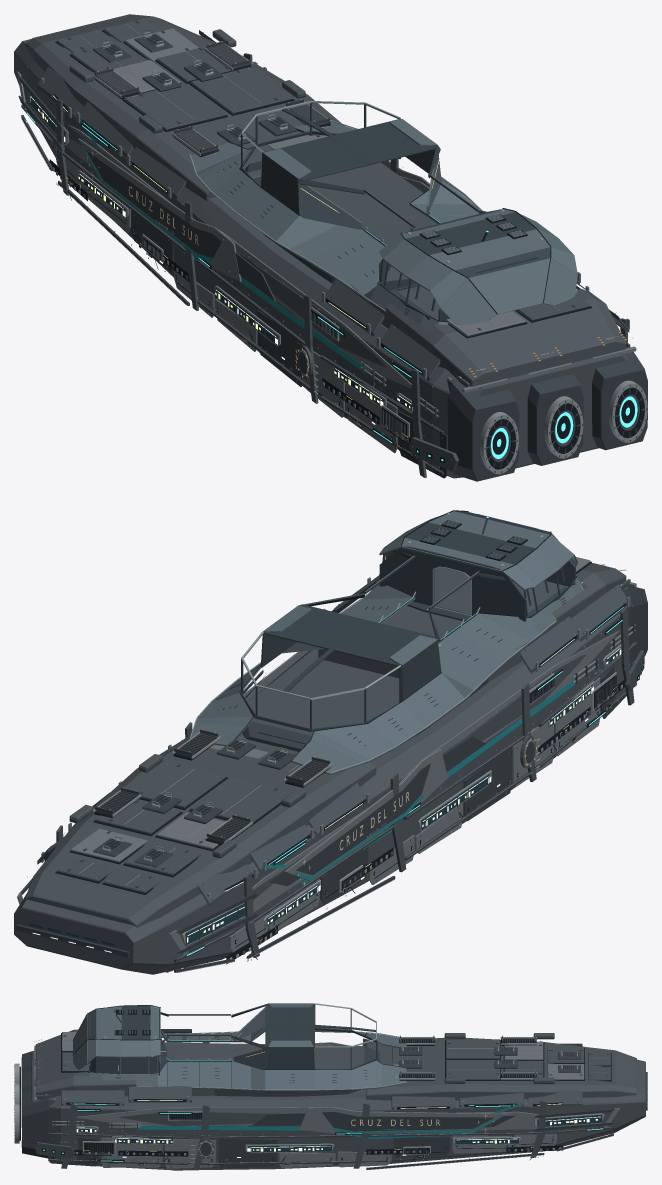
Rendered from cruz-del-sur-unified-envelope.glb.
3 views of the same model, one above another, from view 1: azimuth 30°, elevation 25°; view 2: azimuth 150°, elevation 25°; view 3: azimuth 270°, elevation 25° (orthographic). The views are drawn at different scales.
Parts seen in each view (by area): view 1: UNIFIED_RUNTIME_lower-hull_SHIP_GAME_CDS_Ceramic graphite.00, UNIFIED_RUNTIME_lower-hull_SHIP_GAME_CDS_Dark armor.002, UNIFIED_RUNTIME_lower-hull_SHIP_GAME_CDS_Titanium armor.002, UNIFIED_RUNTIME_arrival_UNIFIED_Blue titanium, UNIFIED_RUNTIME_bridge_UNIFIED_Blue titanium, UNIFIED_RUNTIME_lower-hull_SHIP_GAME_CDS_Deep recess.002, UNIFIED_RUNTIME_bridge_UNIFIED_Graphite ceramic, UNIFIED_RUNTIME_lower-hull_SHIP_GAME_CDS_Machined edges.002, UNIFIED_RUNTIME_arrival_UNIFIED_Graphite ceramic, UNIFIED_RUNTIME_connector_UNIFIED_Blue titanium, UNIFIED_RUNTIME_lower-hull_SHIP_GAME_CDS_Smoked sapphire gla, UNIFIED_RUNTIME_lower-hull_SHIP_GAME_CDS_Petrol livery.002 (+3 smaller); view 2: UNIFIED_RUNTIME_lower-hull_SHIP_GAME_CDS_Ceramic graphite.00, UNIFIED_RUNTIME_lower-hull_SHIP_GAME_CDS_Dark armor.002, UNIFIED_RUNTIME_lower-hull_SHIP_GAME_CDS_Titanium armor.002, UNIFIED_RUNTIME_bridge_UNIFIED_Blue titanium, UNIFIED_RUNTIME_arrival_UNIFIED_Graphite ceramic, UNIFIED_RUNTIME_bridge_UNIFIED_Graphite ceramic, UNIFIED_RUNTIME_arrival_UNIFIED_Blue titanium, UNIFIED_RUNTIME_connector_UNIFIED_Blue titanium, UNIFIED_RUNTIME_lower-hull_SHIP_GAME_CDS_Deep recess.002, UNIFIED_RUNTIME_lower-hull_SHIP_GAME_CDS_Machined edges.002, UNIFIED_RUNTIME_lower-hull_SHIP_GAME_CDS_Smoked sapphire gla, UNIFIED_RUNTIME_lower-hull_SHIP_GAME_CDS_Petrol livery.002 (+3 smaller); view 3: UNIFIED_RUNTIME_lower-hull_SHIP_GAME_CDS_Ceramic graphite.00, UNIFIED_RUNTIME_lower-hull_SHIP_GAME_CDS_Dark armor.002, UNIFIED_RUNTIME_lower-hull_SHIP_GAME_CDS_Titanium armor.002, UNIFIED_RUNTIME_bridge_UNIFIED_Blue titanium, UNIFIED_RUNTIME_lower-hull_SHIP_GAME_CDS_Machined edges.002, UNIFIED_RUNTIME_lower-hull_SHIP_GAME_CDS_Deep recess.002, UNIFIED_RUNTIME_arrival_UNIFIED_Blue titanium, UNIFIED_RUNTIME_bridge_UNIFIED_Graphite ceramic, UNIFIED_RUNTIME_arrival_UNIFIED_Graphite ceramic, UNIFIED_RUNTIME_connector_UNIFIED_Blue titanium, UNIFIED_RUNTIME_lower-hull_SHIP_GAME_CDS_Smoked sapphire gla, UNIFIED_RUNTIME_lower-hull_SHIP_GAME_CDS_Petrol livery.002 (+7 smaller).
Boxes of the visible parts, <box> form: UNIFIED_RUNTIME_lower-hull_SHIP_GAME_CDS_Ceramic graphite.00: <box>14,14,644,478</box>; UNIFIED_RUNTIME_lower-hull_SHIP_GAME_CDS_Dark armor.002: <box>18,20,647,481</box>; UNIFIED_RUNTIME_lower-hull_SHIP_GAME_CDS_Titanium armor.002: <box>17,28,636,453</box>; UNIFIED_RUNTIME_arrival_UNIFIED_Blue titanium: <box>369,208,577,330</box>; UNIFIED_RUNTIME_bridge_UNIFIED_Blue titanium: <box>191,119,480,260</box>; UNIFIED_RUNTIME_lower-hull_SHIP_GAME_CDS_Deep recess.002: <box>26,30,647,474</box>; UNIFIED_RUNTIME_bridge_UNIFIED_Graphite ceramic: <box>240,103,440,214</box>; UNIFIED_RUNTIME_lower-hull_SHIP_GAME_CDS_Machined edges.002: <box>21,19,647,474</box>; UNIFIED_RUNTIME_arrival_UNIFIED_Graphite ceramic: <box>379,209,550,321</box>; UNIFIED_RUNTIME_connector_UNIFIED_Blue titanium: <box>306,215,469,301</box>; UNIFIED_RUNTIME_lower-hull_SHIP_GAME_CDS_Smoked sapphire gla: <box>30,93,411,409</box>; UNIFIED_RUNTIME_lower-hull_SHIP_GAME_CDS_Petrol livery.002: <box>74,113,365,373</box>; UNIFIED_RUNTIME_lower-hull_SHIP_GAME_CDS_Ceramic graphite.00: <box>14,563,644,974</box>; UNIFIED_RUNTIME_lower-hull_SHIP_GAME_CDS_Dark armor.002: <box>16,556,647,972</box>; UNIFIED_RUNTIME_lower-hull_SHIP_GAME_CDS_Titanium armor.002: <box>17,557,636,955</box>; UNIFIED_RUNTIME_bridge_UNIFIED_Blue titanium: <box>191,605,486,774</box>; UNIFIED_RUNTIME_arrival_UNIFIED_Graphite ceramic: <box>379,511,575,621</box>; UNIFIED_RUNTIME_bridge_UNIFIED_Graphite ceramic: <box>240,593,441,731</box>; UNIFIED_RUNTIME_arrival_UNIFIED_Blue titanium: <box>378,511,582,633</box>; UNIFIED_RUNTIME_connector_UNIFIED_Blue titanium: <box>341,581,538,679</box>; UNIFIED_RUNTIME_lower-hull_SHIP_GAME_CDS_Deep recess.002: <box>44,561,643,964</box>; UNIFIED_RUNTIME_lower-hull_SHIP_GAME_CDS_Machined edges.002: <box>27,560,644,972</box>; UNIFIED_RUNTIME_lower-hull_SHIP_GAME_CDS_Smoked sapphire gla: <box>30,647,620,946</box>; UNIFIED_RUNTIME_lower-hull_SHIP_GAME_CDS_Petrol livery.002: <box>259,679,574,883</box>; UNIFIED_RUNTIME_lower-hull_SHIP_GAME_CDS_Ceramic graphite.00: <box>31,1029,645,1170</box>; UNIFIED_RUNTIME_lower-hull_SHIP_GAME_CDS_Dark armor.002: <box>21,1035,647,1170</box>; UNIFIED_RUNTIME_lower-hull_SHIP_GAME_CDS_Titanium armor.002: <box>34,1032,620,1168</box>; UNIFIED_RUNTIME_bridge_UNIFIED_Blue titanium: <box>231,1003,406,1090</box>; UNIFIED_RUNTIME_lower-hull_SHIP_GAME_CDS_Machined edges.002: <box>14,1028,612,1169</box>; UNIFIED_RUNTIME_lower-hull_SHIP_GAME_CDS_Deep recess.002: <box>19,1033,611,1167</box>; UNIFIED_RUNTIME_arrival_UNIFIED_Blue titanium: <box>73,1005,160,1086</box>; UNIFIED_RUNTIME_bridge_UNIFIED_Graphite ceramic: <box>231,1003,377,1069</box>; UNIFIED_RUNTIME_arrival_UNIFIED_Graphite ceramic: <box>87,1005,168,1075</box>; UNIFIED_RUNTIME_connector_UNIFIED_Blue titanium: <box>158,1030,231,1089</box>; UNIFIED_RUNTIME_lower-hull_SHIP_GAME_CDS_Smoked sapphire gla: <box>76,1073,647,1152</box>; UNIFIED_RUNTIME_lower-hull_SHIP_GAME_CDS_Petrol livery.002: <box>137,1103,526,1139</box>.
Size of the model in its own units: 16.06 by 14.26 by 59.83.
